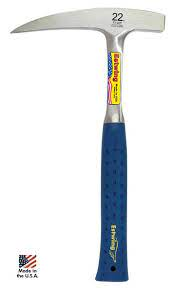hammer: (9, 6, 166, 283)
